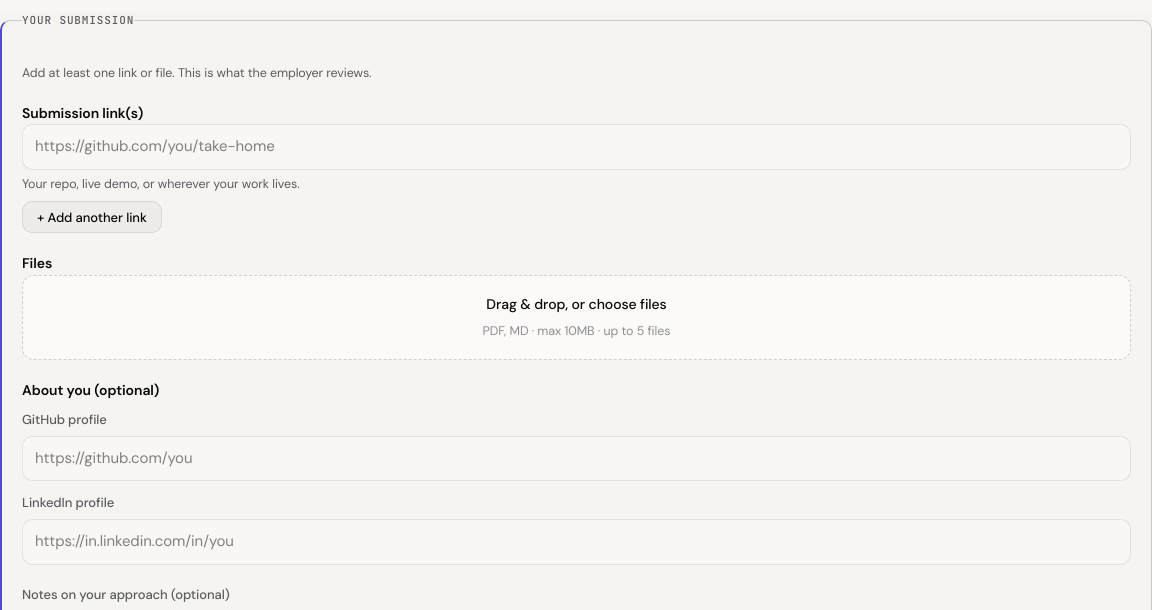
Scenario: AssignmentSection — links › shows the private-link warning for a github URL
The image size is (1152, 610).
Type "https://github.com/asha/take-home" into the field named "Submission link 1" at (576, 147), box [22,124,1131,170]
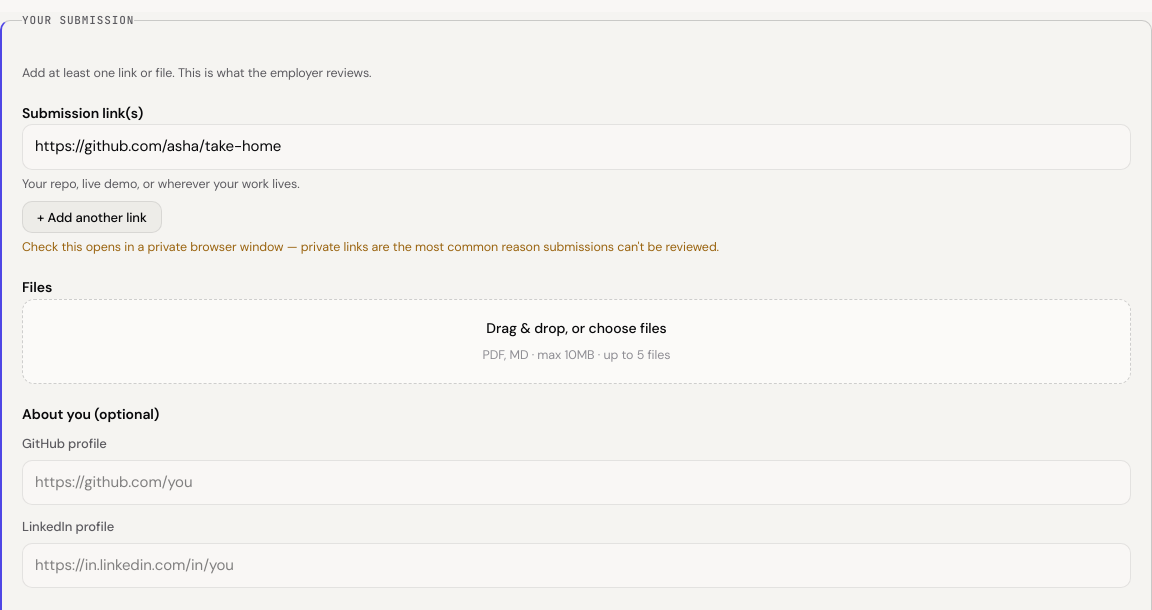
Result: the text "private browser window" is shown at [22,239,719,255]
